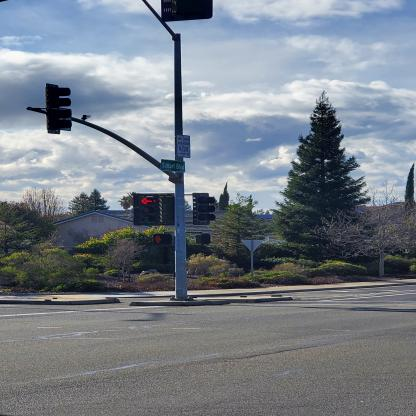left-red: (134, 193, 160, 225)
